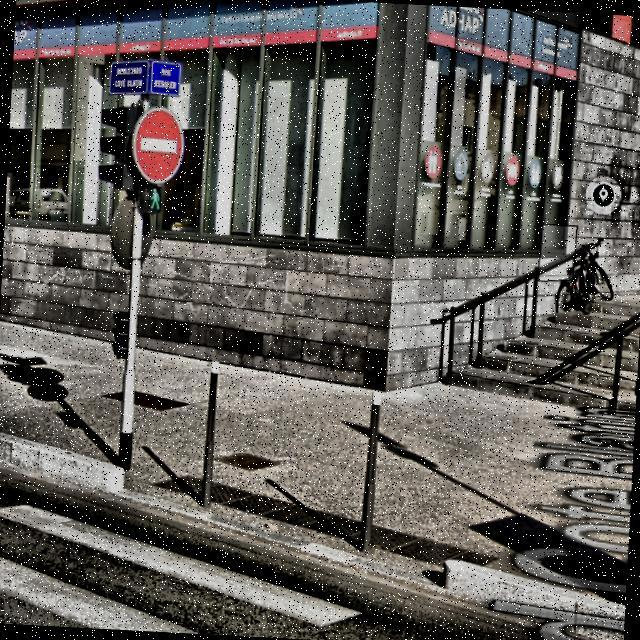green_light: (147, 184, 161, 210)
